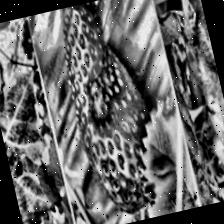Anthracnose Fruit Rot: (72, 40, 139, 135)
